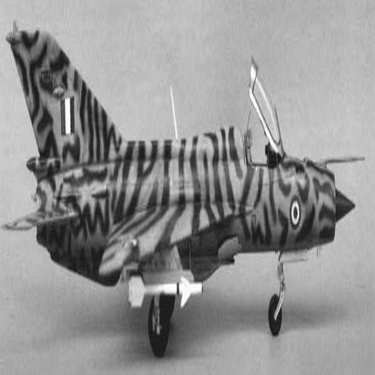airplane: (4, 15, 367, 366)
